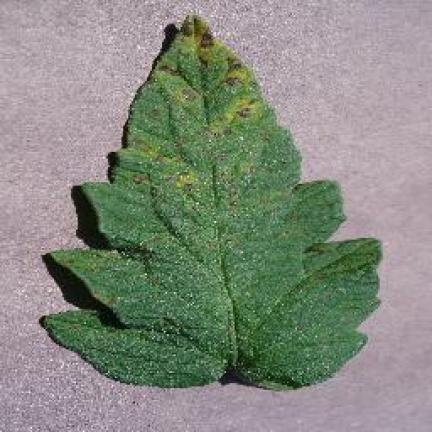leaf: (228, 57, 241, 69)
